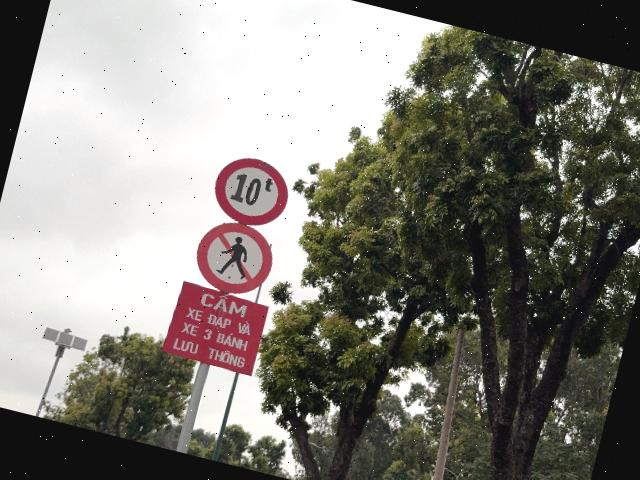cam-nguoi-di-bo: (188, 216, 280, 302)
han-che-trong-luong-xe: (207, 151, 295, 233)
